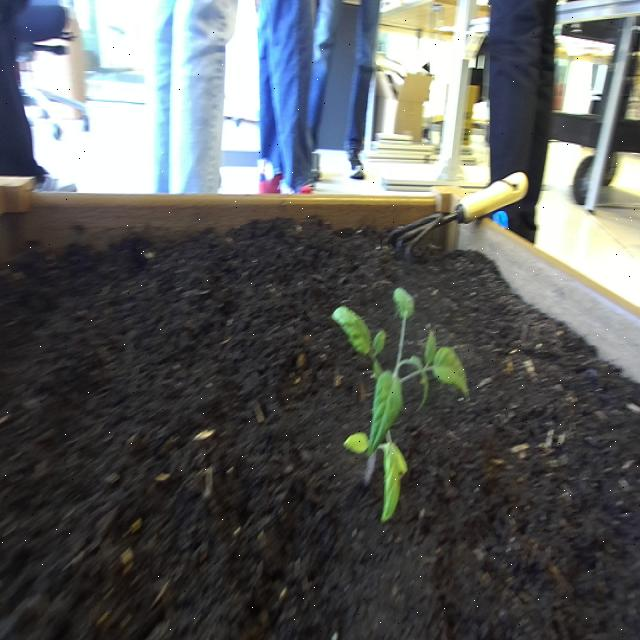Healthy: (326, 277, 476, 529)
